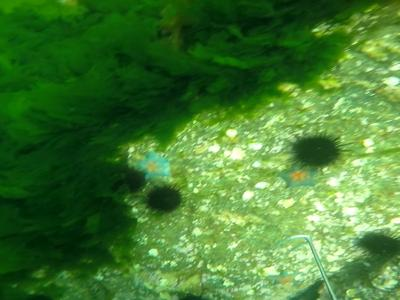urchin: (293, 134, 338, 166), (358, 231, 396, 258), (150, 186, 182, 212)
